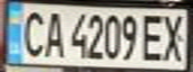0: (103, 11, 124, 61)
2: (84, 10, 106, 61)
4: (66, 8, 87, 60)
9: (118, 11, 142, 61)
A: (39, 7, 69, 60)
C: (18, 7, 48, 58)
E: (139, 11, 169, 62)
X: (157, 11, 190, 63)
